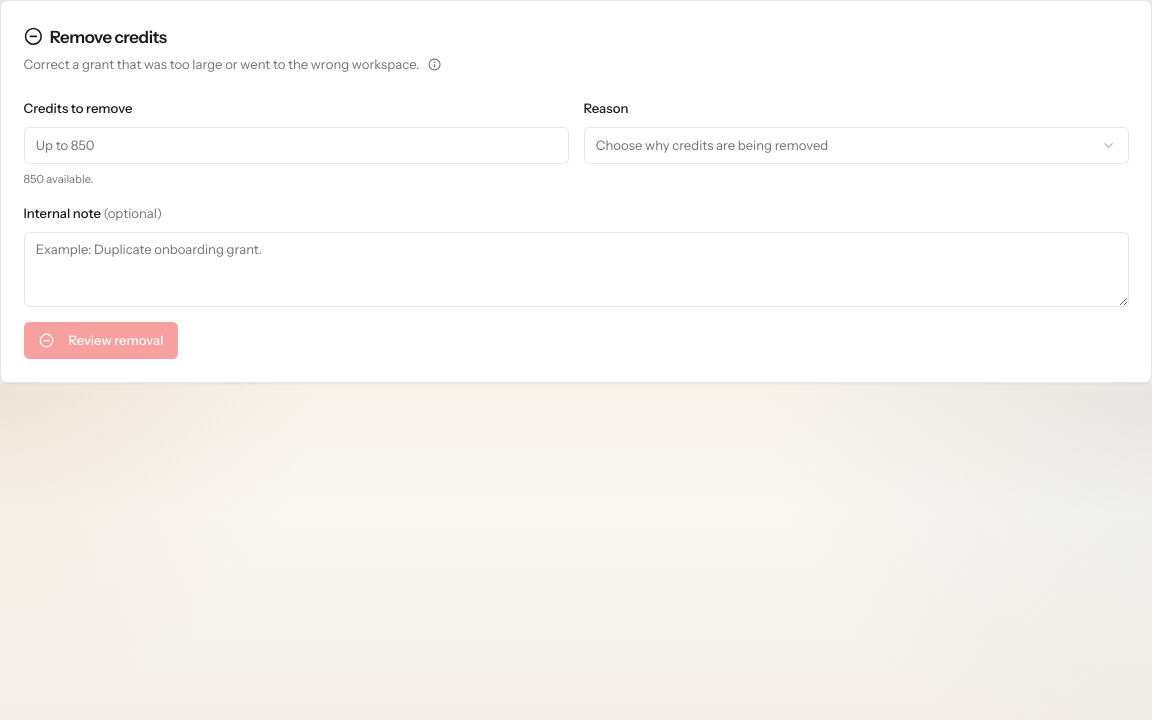
it: WorkspaceCreditAdjustment › returns focus to the review button when the review is dismissed
This screenshot has width=1152, height=720.
Expected: the text "850 available." is shown, [24,172,93,186]
Type "10" into the field labelled "Credits to remove". click: (296, 145)
box: [24,127,568,164]
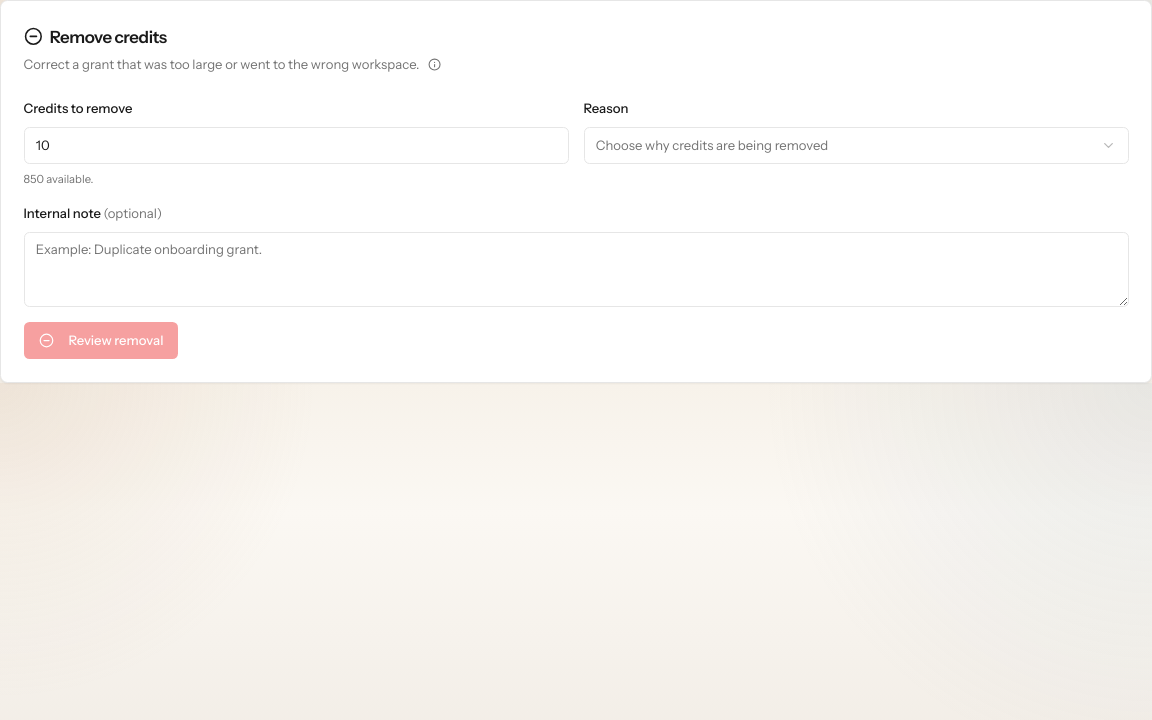
Click the dropdown named "Reason". click: click(712, 145)
box: [584,127,1128,164]
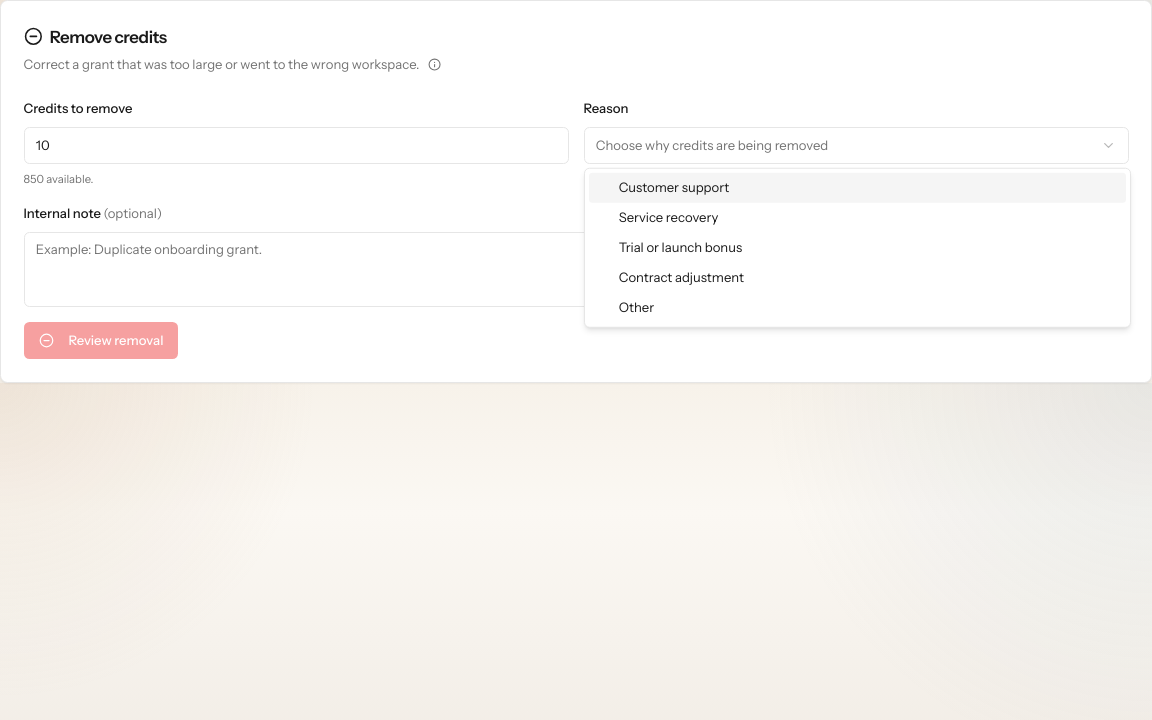
Click the option "Other". click: click(636, 307)
box: [619,299,654,315]
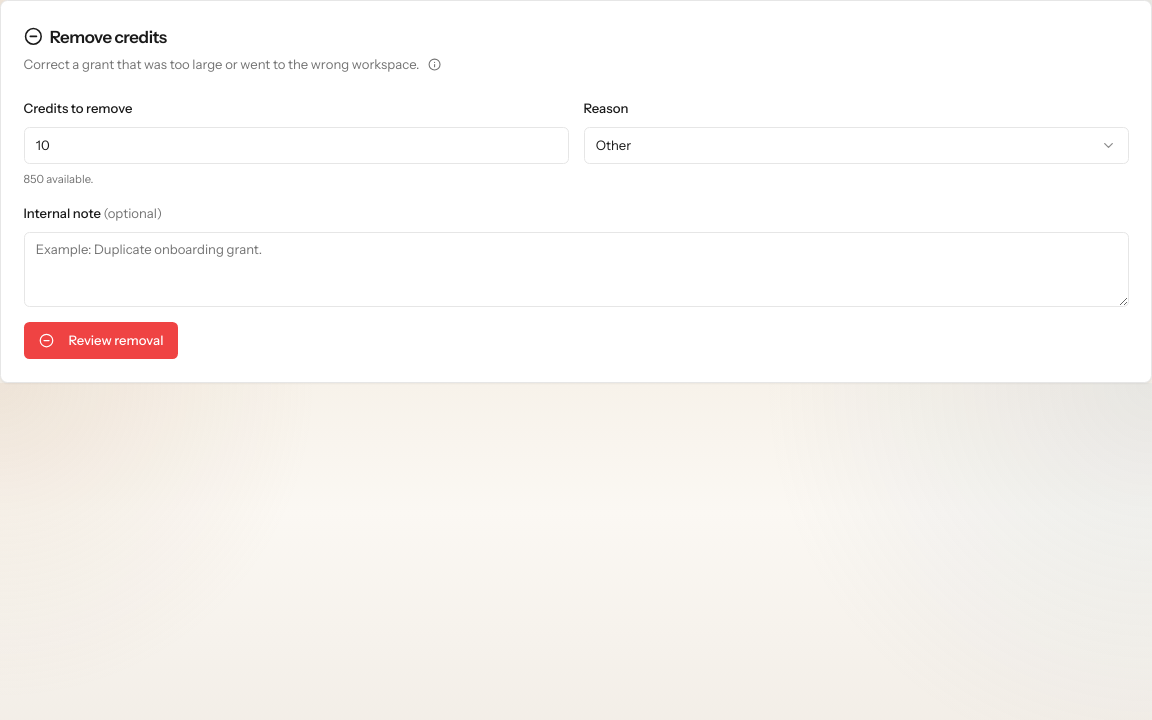
Click the button "Review removal". click: click(101, 340)
box: [24,322,178,359]
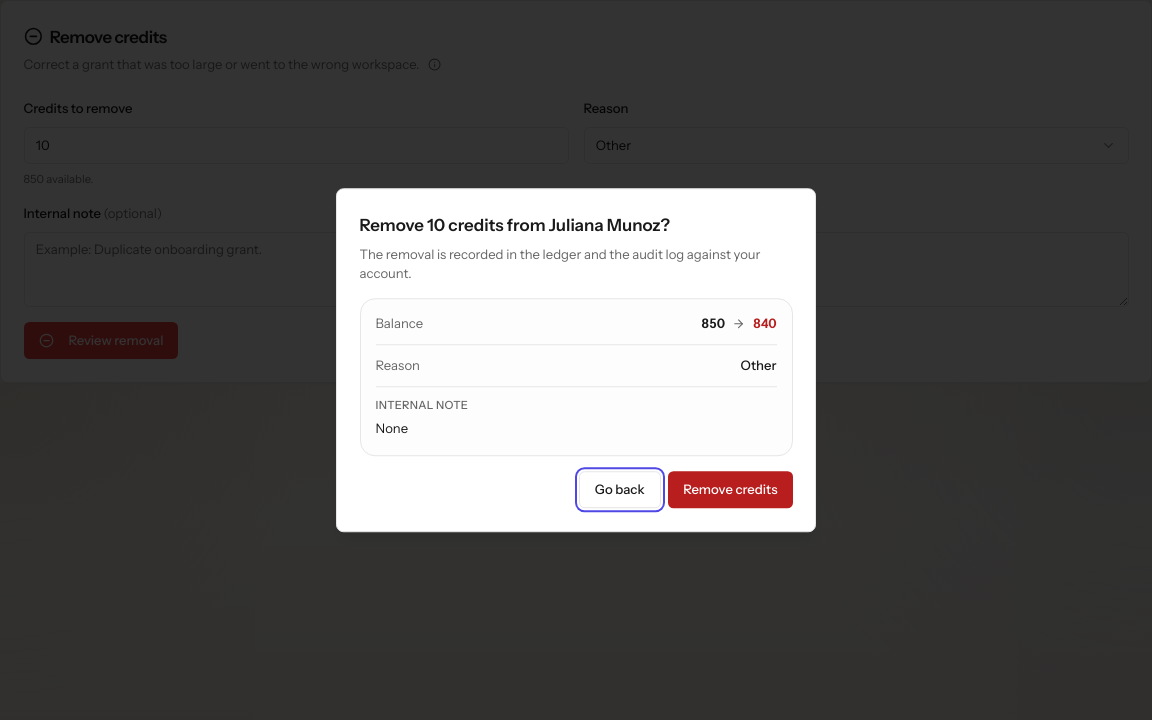
Press Escape in the dialog, box [336,188,816,532]
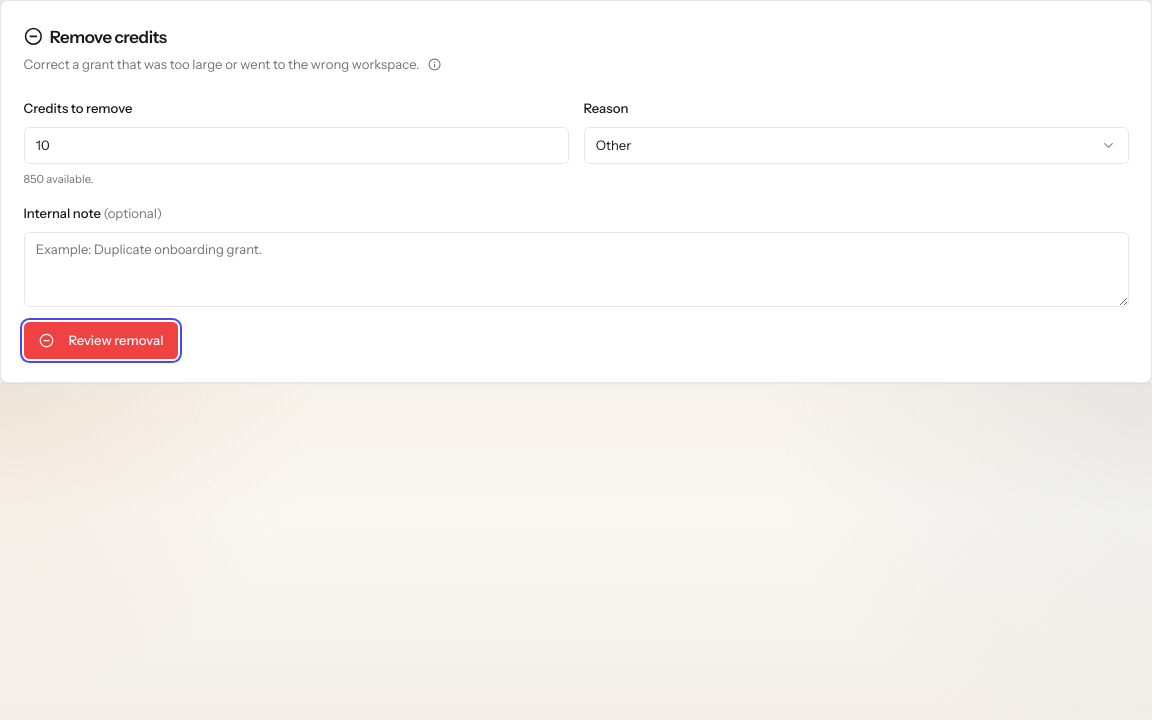
Now the dialog is gone
